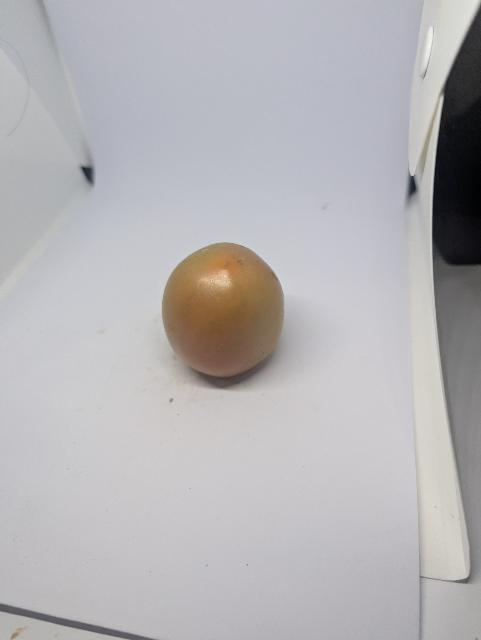turning: (144, 236, 287, 384)
